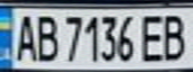1: (81, 11, 100, 62)
3: (100, 11, 121, 63)
6: (115, 11, 139, 63)
7: (60, 11, 84, 62)
A: (9, 10, 39, 62)
B: (157, 11, 190, 62), (33, 11, 60, 62)
E: (136, 11, 169, 63)
